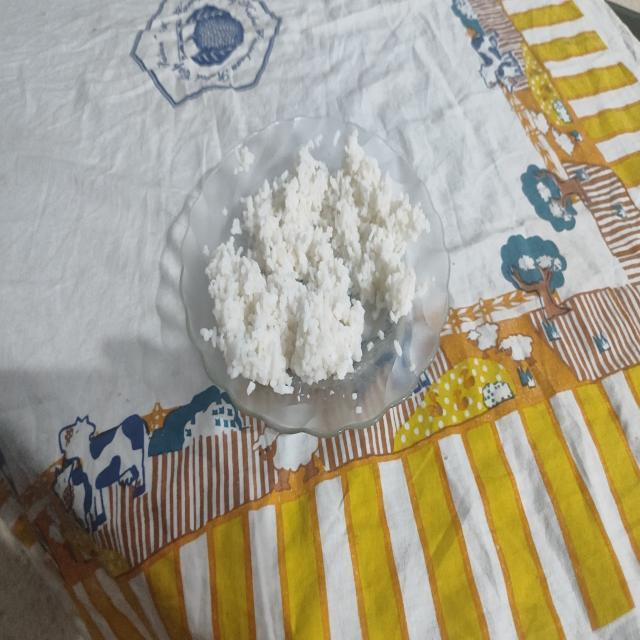nasi_putih: (206, 131, 429, 394)
